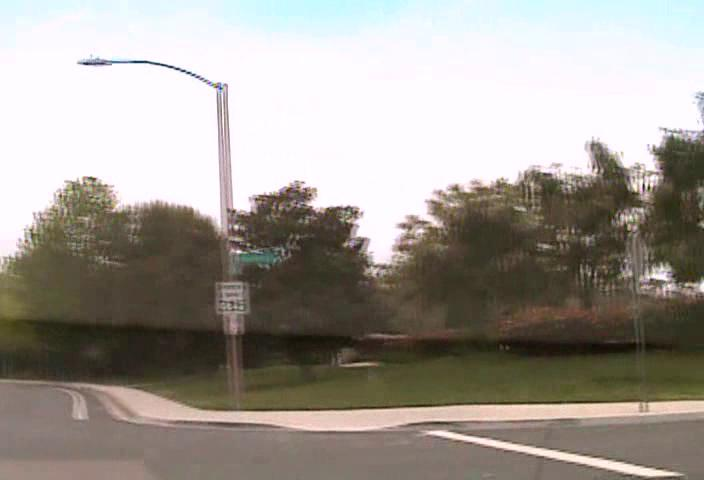speedLimit35: (215, 279, 248, 315)
